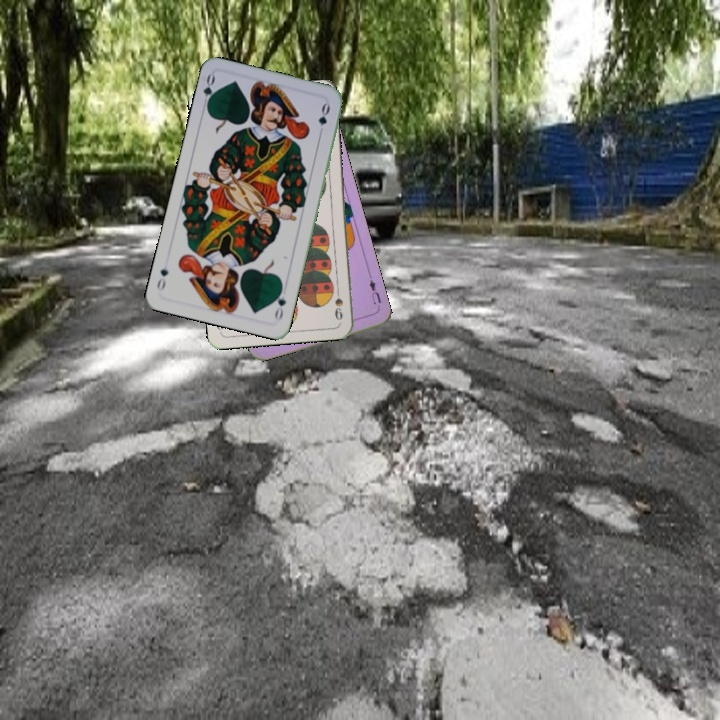EU: (365, 272, 384, 307)
GO: (198, 70, 219, 112), (270, 282, 289, 323)
S9: (331, 282, 346, 323)
